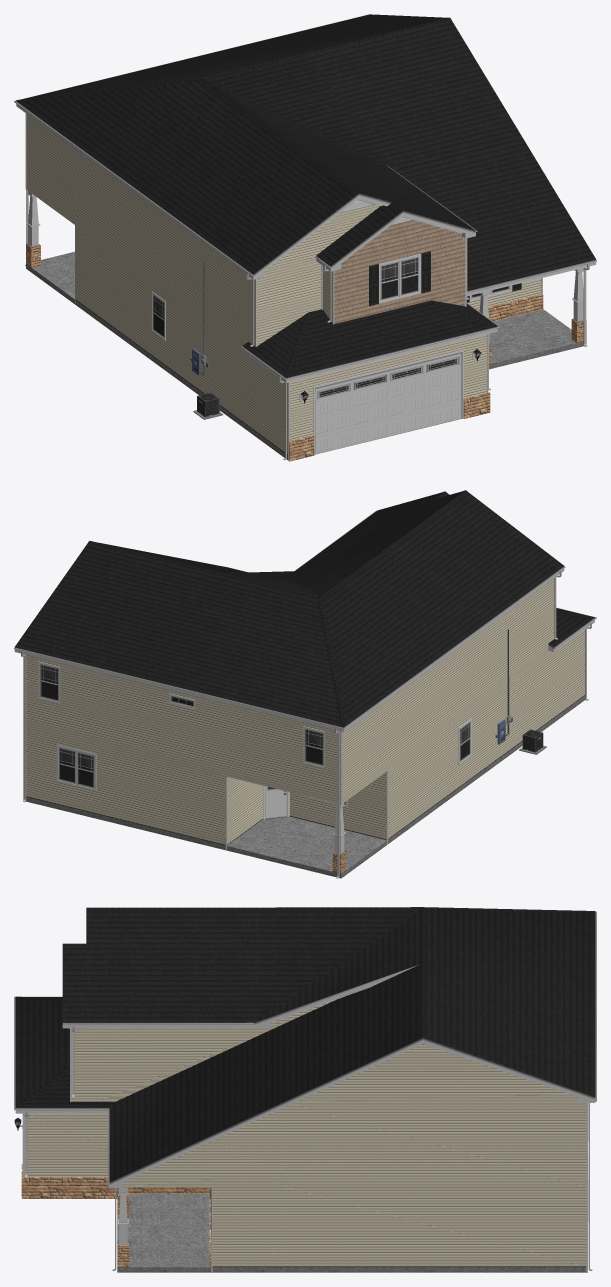
The model's file is house22_mirror1.fbx.
3 views of the same model, one above another, from view 1: azimuth 30°, elevation 25°; view 2: azimuth 150°, elevation 25°; view 3: azimuth 270°, elevation 25° (orthographic). The views are drawn at different scales.
Visible parts, largest first — view 1: house22_mirror1_LOD0; view 2: house22_mirror1_LOD0; view 3: house22_mirror1_LOD0.
Boxes of the visible parts, left/top/right/bottom form: house22_mirror1_LOD0: left=14, top=14, right=596, bottom=461; house22_mirror1_LOD0: left=14, top=490, right=596, bottom=878; house22_mirror1_LOD0: left=14, top=907, right=596, bottom=1272.
Size of what is drawn, in the model's own units: 3.89 by 2.24 by 4.96.
